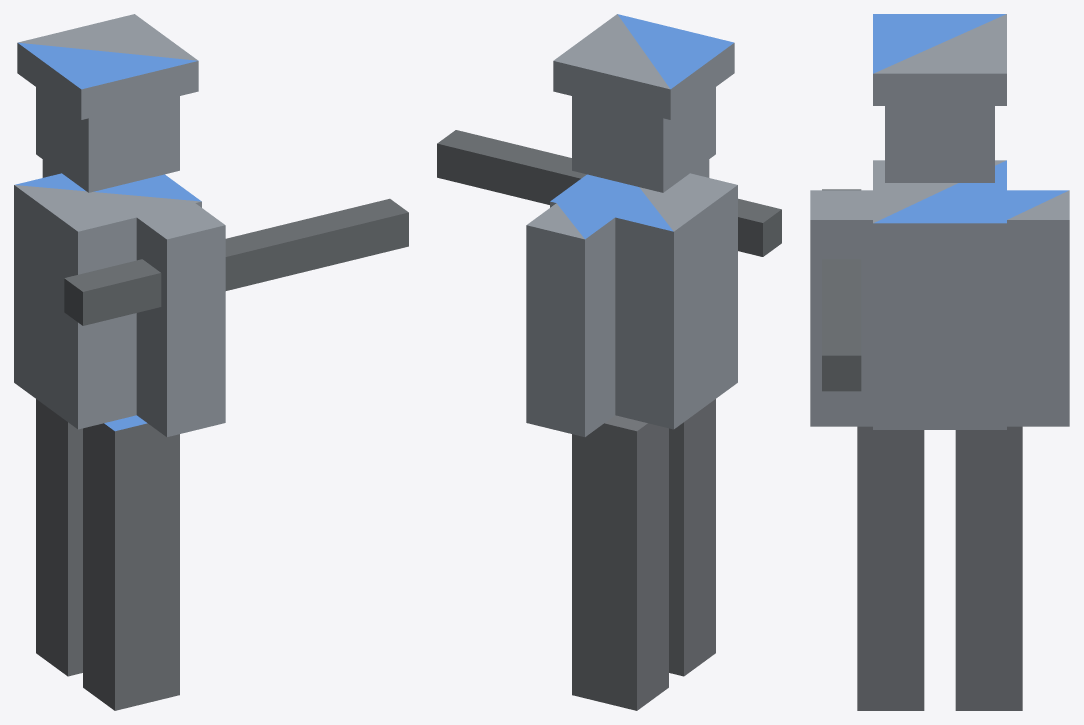
File: veyran_rocket_trooper.glb
3 views of the same model, side by side, from view 1: azimuth 30°, elevation 25°; view 2: azimuth 150°, elevation 25°; view 3: azimuth 270°, elevation 25° (orthographic). The views are drawn at different scales.
Parts seen in each view (by area): view 1: arm_r, leg_r, torso, head, leg_l; view 2: torso, leg_l, head, arm_l, leg_r, arm_r; view 3: torso, head, leg_l, leg_r, arm_r, arm_l.
Boxes of the visible parts, x1,y1,x2,y2 form: arm_r: (64,198,408,436); leg_r: (83,415,179,710); torso: (14,173,201,429); head: (17,14,198,192); leg_l: (36,399,82,676); torso: (550,173,737,429); leg_l: (572,415,668,710); head: (553,14,734,192); arm_l: (526,203,615,436); leg_r: (669,399,715,676); arm_r: (437,130,781,256); torso: (873,160,1006,429); head: (873,14,1006,182); leg_l: (955,426,1022,710); leg_r: (857,426,924,710); arm_r: (810,189,872,426); arm_l: (1007,190,1069,426).
Bounding box in the file's own units: 1 × 1.82 × 0.66.
